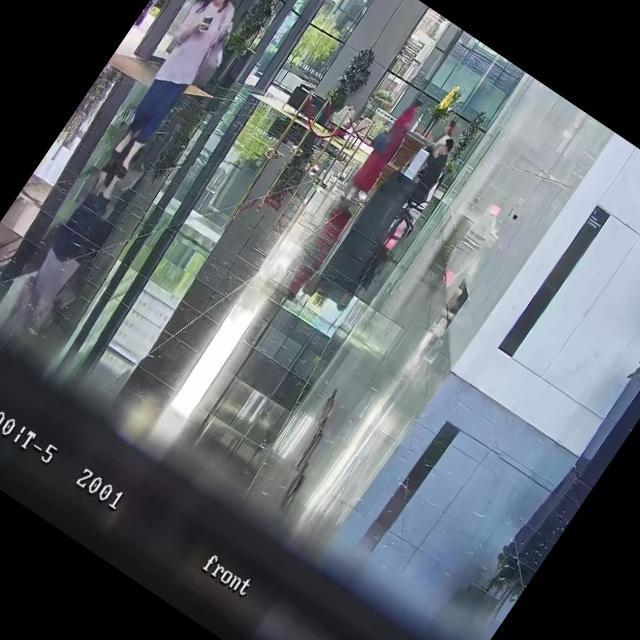person: (89, 0, 257, 184), (340, 93, 426, 207), (382, 133, 468, 241), (428, 116, 462, 156)
